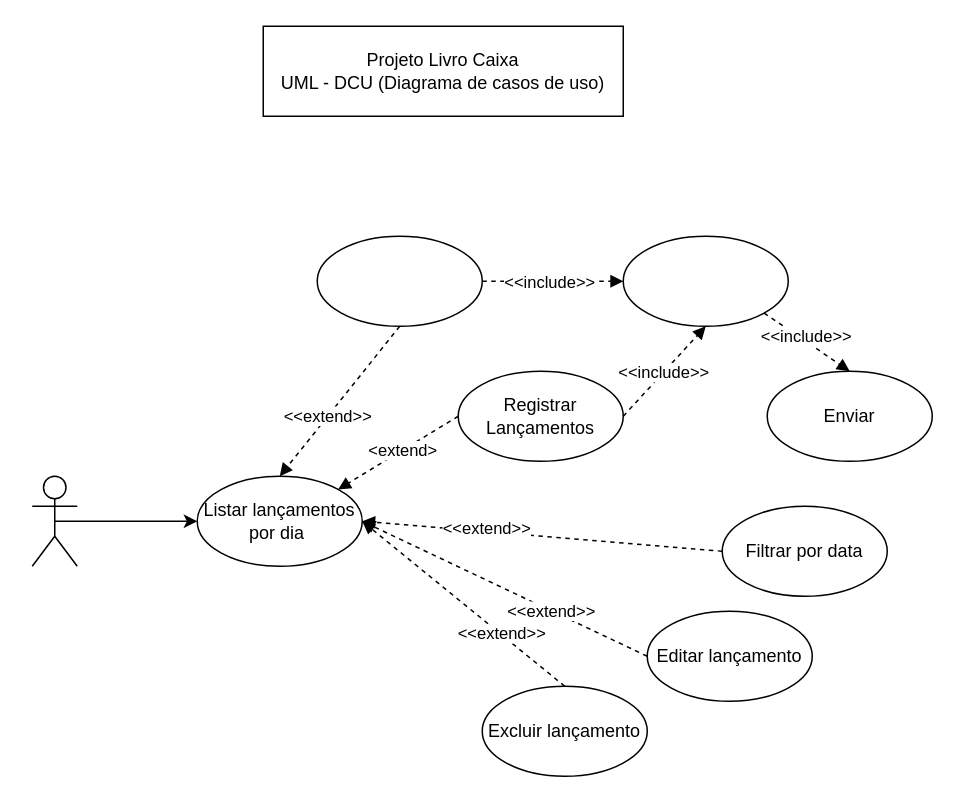
The diagram is 959 pixels wide and 803 high, and some of its shapes have lost their labels. Each missing label, with the centre of its shape:
Cadastrar usuario: pixel 399 280
Preencher dados obrigatorios: pixel 705 280
usuario: pixel 54 520
